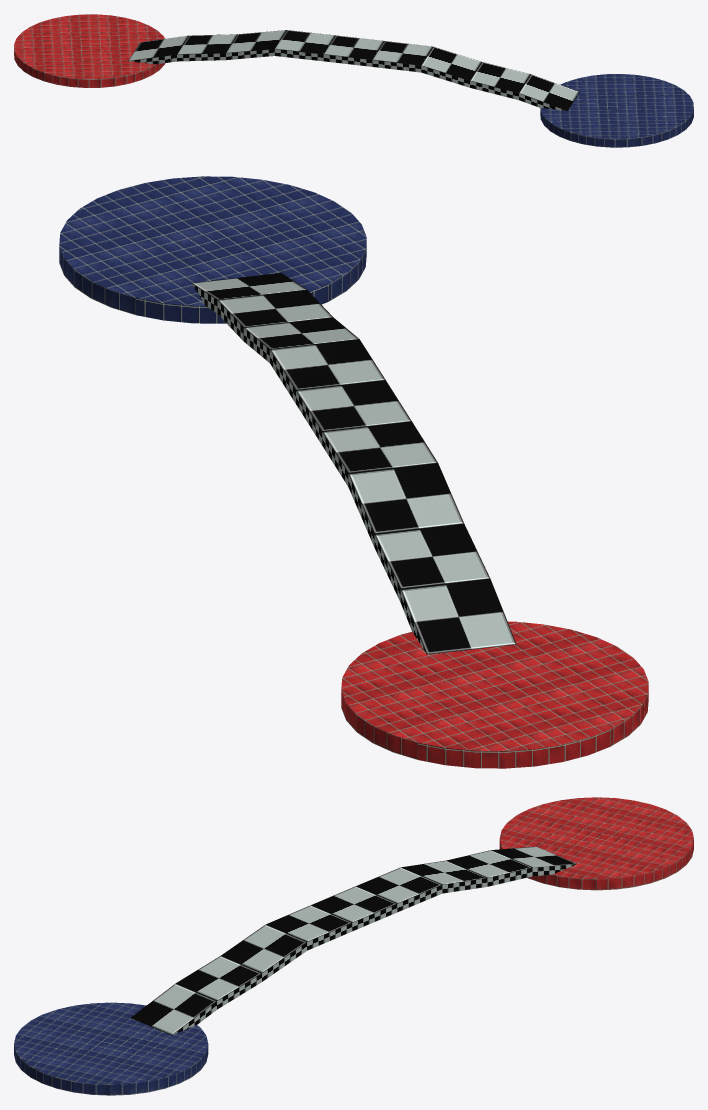
Rendered from brigd.obj.
The picture shows the model from 3 angles, top to bottom: view 1: azimuth 30°, elevation 25°; view 2: azimuth 150°, elevation 25°; view 3: azimuth 270°, elevation 25°; orthographic projection. The views are drawn at different scales.
Parts seen in each view (by area): view 1: Cube_Cube.001_Material_floor034.jpg, Circle_Circle_Material_tiles_ctf02b.jpg, Circle.001_Circle.001_Material_tiles_ctf02r.jpg; view 2: Cube_Cube.001_Material_floor034.jpg, Circle.001_Circle.001_Material_tiles_ctf02r.jpg, Circle_Circle_Material_tiles_ctf02b.jpg; view 3: Cube_Cube.001_Material_floor034.jpg, Circle_Circle_Material_tiles_ctf02b.jpg, Circle.001_Circle.001_Material_tiles_ctf02r.jpg.
Boxes of the visible parts, left/top/right/bottom form: Cube_Cube.001_Material_floor034.jpg: left=128, top=30, right=579, bottom=110; Circle_Circle_Material_tiles_ctf02b.jpg: left=540, top=74, right=693, bottom=147; Circle.001_Circle.001_Material_tiles_ctf02r.jpg: left=14, top=14, right=165, bottom=87; Cube_Cube.001_Material_floor034.jpg: left=191, top=273, right=516, bottom=654; Circle.001_Circle.001_Material_tiles_ctf02r.jpg: left=341, top=621, right=648, bottom=768; Circle_Circle_Material_tiles_ctf02b.jpg: left=59, top=176, right=366, bottom=323; Cube_Cube.001_Material_floor034.jpg: left=131, top=846, right=576, bottom=1035; Circle_Circle_Material_tiles_ctf02b.jpg: left=14, top=1002, right=208, bottom=1095; Circle.001_Circle.001_Material_tiles_ctf02r.jpg: left=499, top=797, right=693, bottom=890.
Bounding box in the file's own units: 44.8 × 3.45 × 44.8.
Materials: 3 (3 with a texture image).
